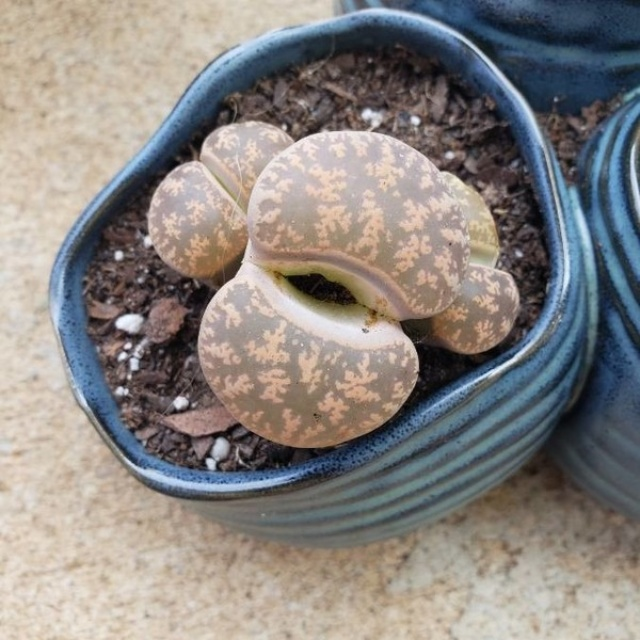obstacle: (44, 1, 610, 535)
